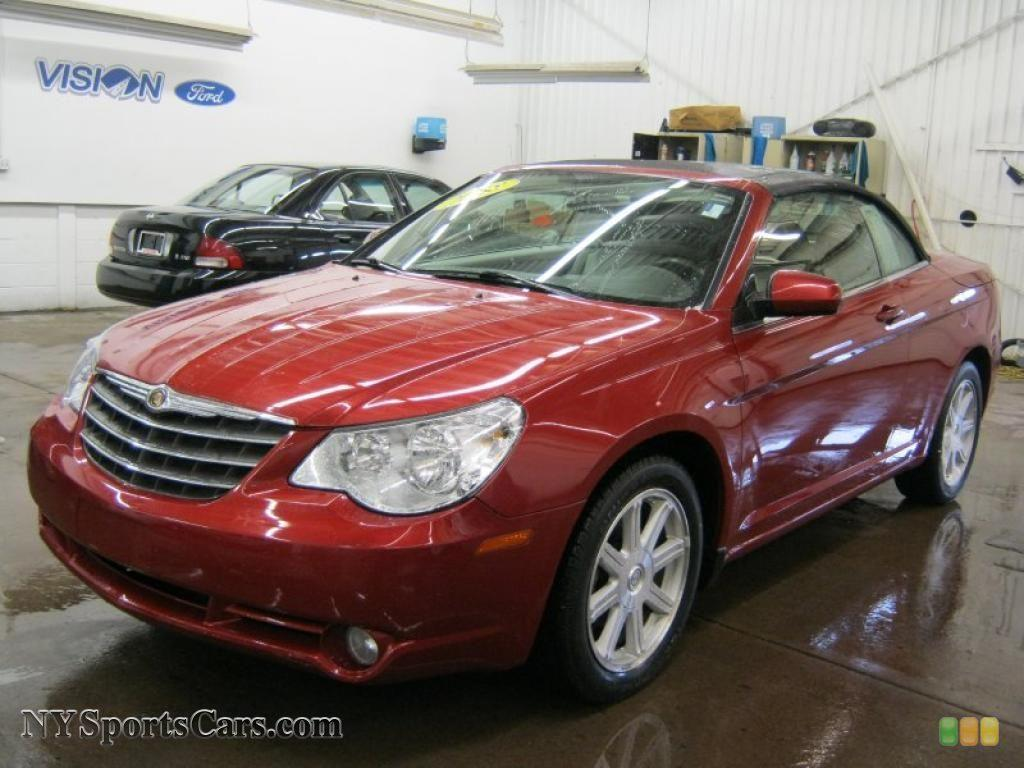Chrysler: (87, 354, 271, 451)
